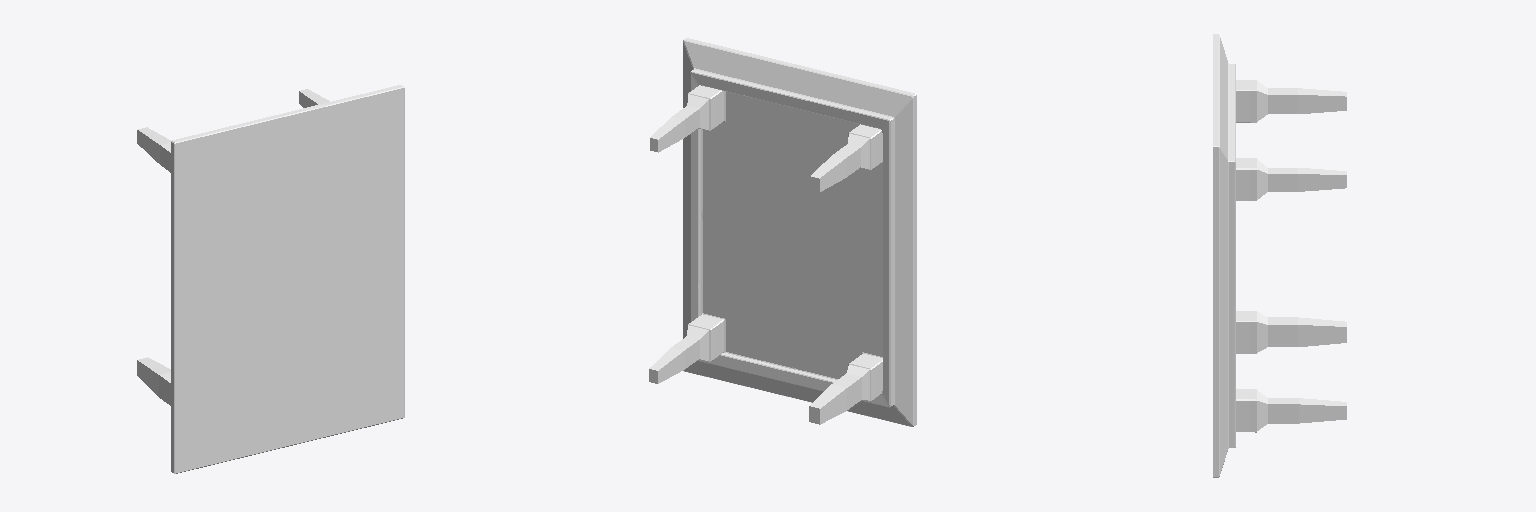
Rendered from table_lightmap.obj.
3 views of the same model, side by side, from view 1: azimuth 30°, elevation 25°; view 2: azimuth 150°, elevation 25°; view 3: azimuth 270°, elevation 25° (orthographic).
Bounding box in the file's own units: 7.61 × 10.45 × 3.85.